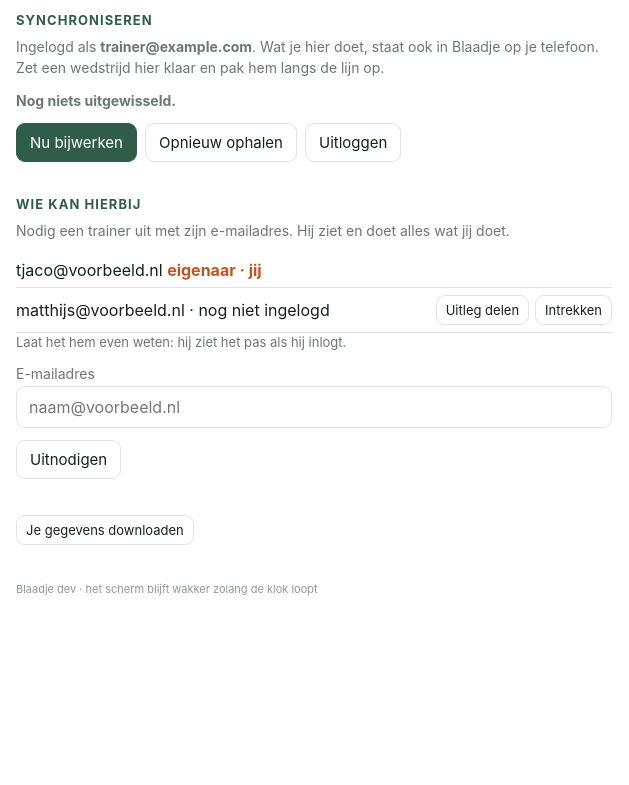
Scenario: het gegevensscherm als je ingelogd bent › laat de tekst staan als er niets lukt
This screenshot has width=629, height=785.
Click the button "Uitleg delen": [482, 310] box [436,295,529,325]
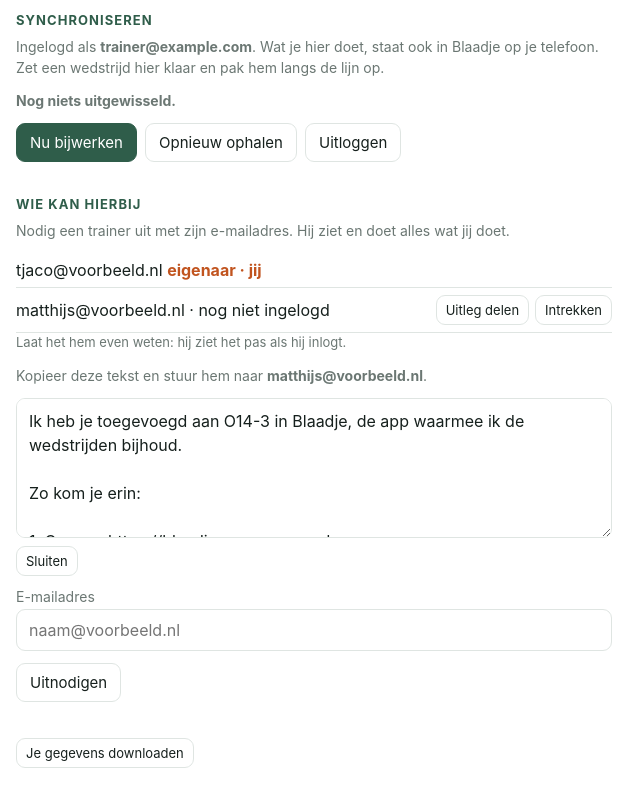
Now the text "Kopieer deze tekst" is shown, box [16,366,267,384]
Now the text box is shown, box [16,398,612,538]
